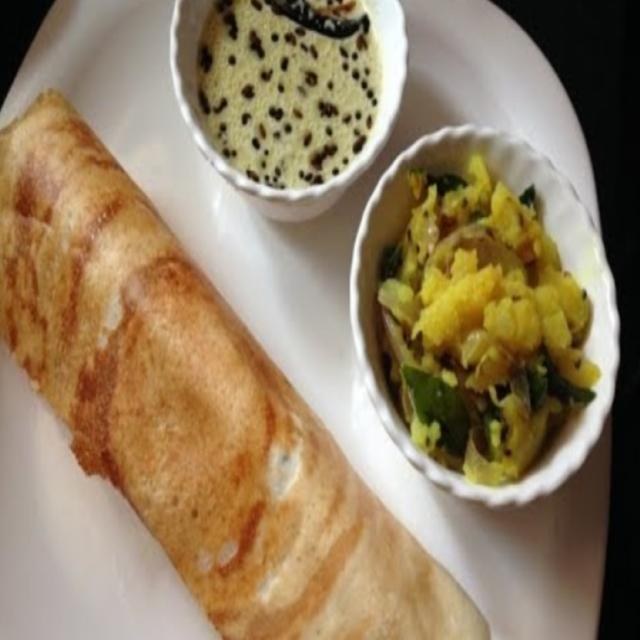CURRY: (374, 127, 604, 505)
DOSA: (0, 89, 491, 639)
WHITE CHUTNEY: (173, 0, 407, 218)
